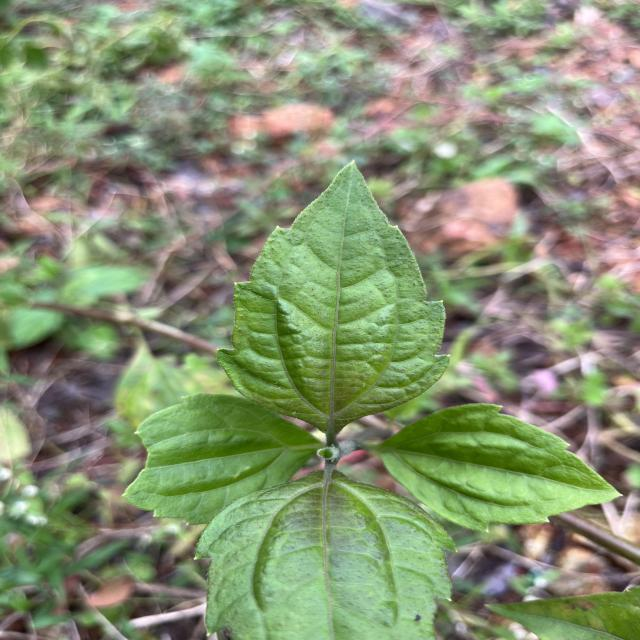Chromolaena odorata: (208, 156, 456, 432)
